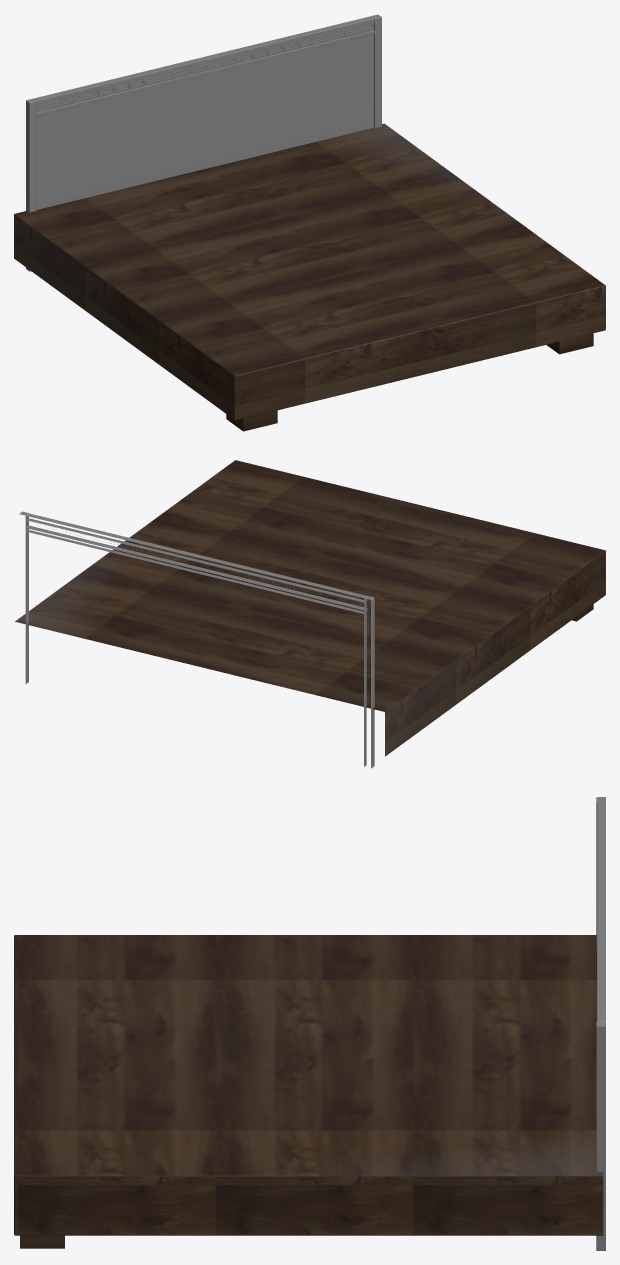
The model's file is bed_king_size_bed_7f44bd8f-2d49-55fa-a3f7-37c51c80e133.glb.
3 renders of one model, top to bottom at view 1: azimuth 30°, elevation 25°; view 2: azimuth 150°, elevation 25°; view 3: azimuth 270°, elevation 25°, orthographic. The views are drawn at different scales.
Parts seen in each view (by area): view 1: raw_model.obj; view 2: raw_model.obj; view 3: raw_model.obj.
Boxes of the visible parts, x1,y1,x2,y2 form: raw_model.obj: (14, 14, 605, 431); raw_model.obj: (15, 460, 605, 768); raw_model.obj: (14, 797, 605, 1250).
Size of the model in its own units: 1.88 by 0.8214 by 1.95.
1 material, 1 textured.
